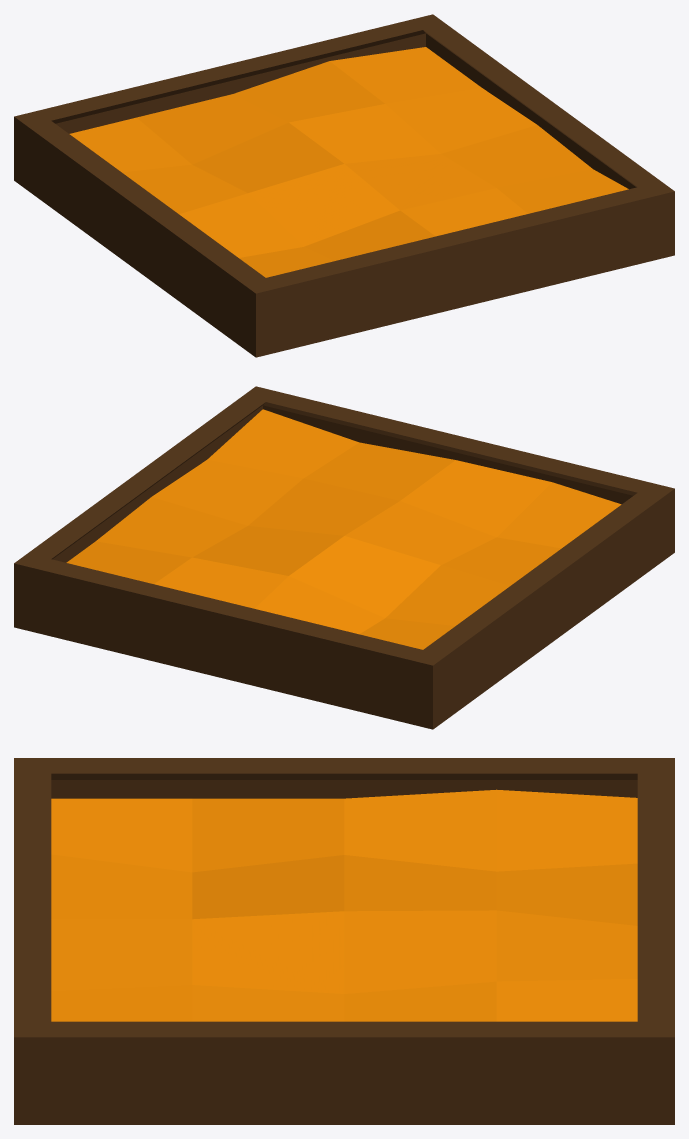
The model's file is Sandbox.fbx.
3 renders of one model, top to bottom at view 1: azimuth 30°, elevation 25°; view 2: azimuth 150°, elevation 25°; view 3: azimuth 270°, elevation 25°, orthographic. The views are drawn at different scales.
Parts seen in each view (by area): view 1: Cube; view 2: Cube; view 3: Cube.
Part boxes in pixels (left/top/right/bottom): Cube: left=14, top=14, right=674, bottom=357; Cube: left=14, top=386, right=674, bottom=729; Cube: left=14, top=758, right=674, bottom=1124.
Bounding box in the file's own units: 200 × 29.21 × 200.
